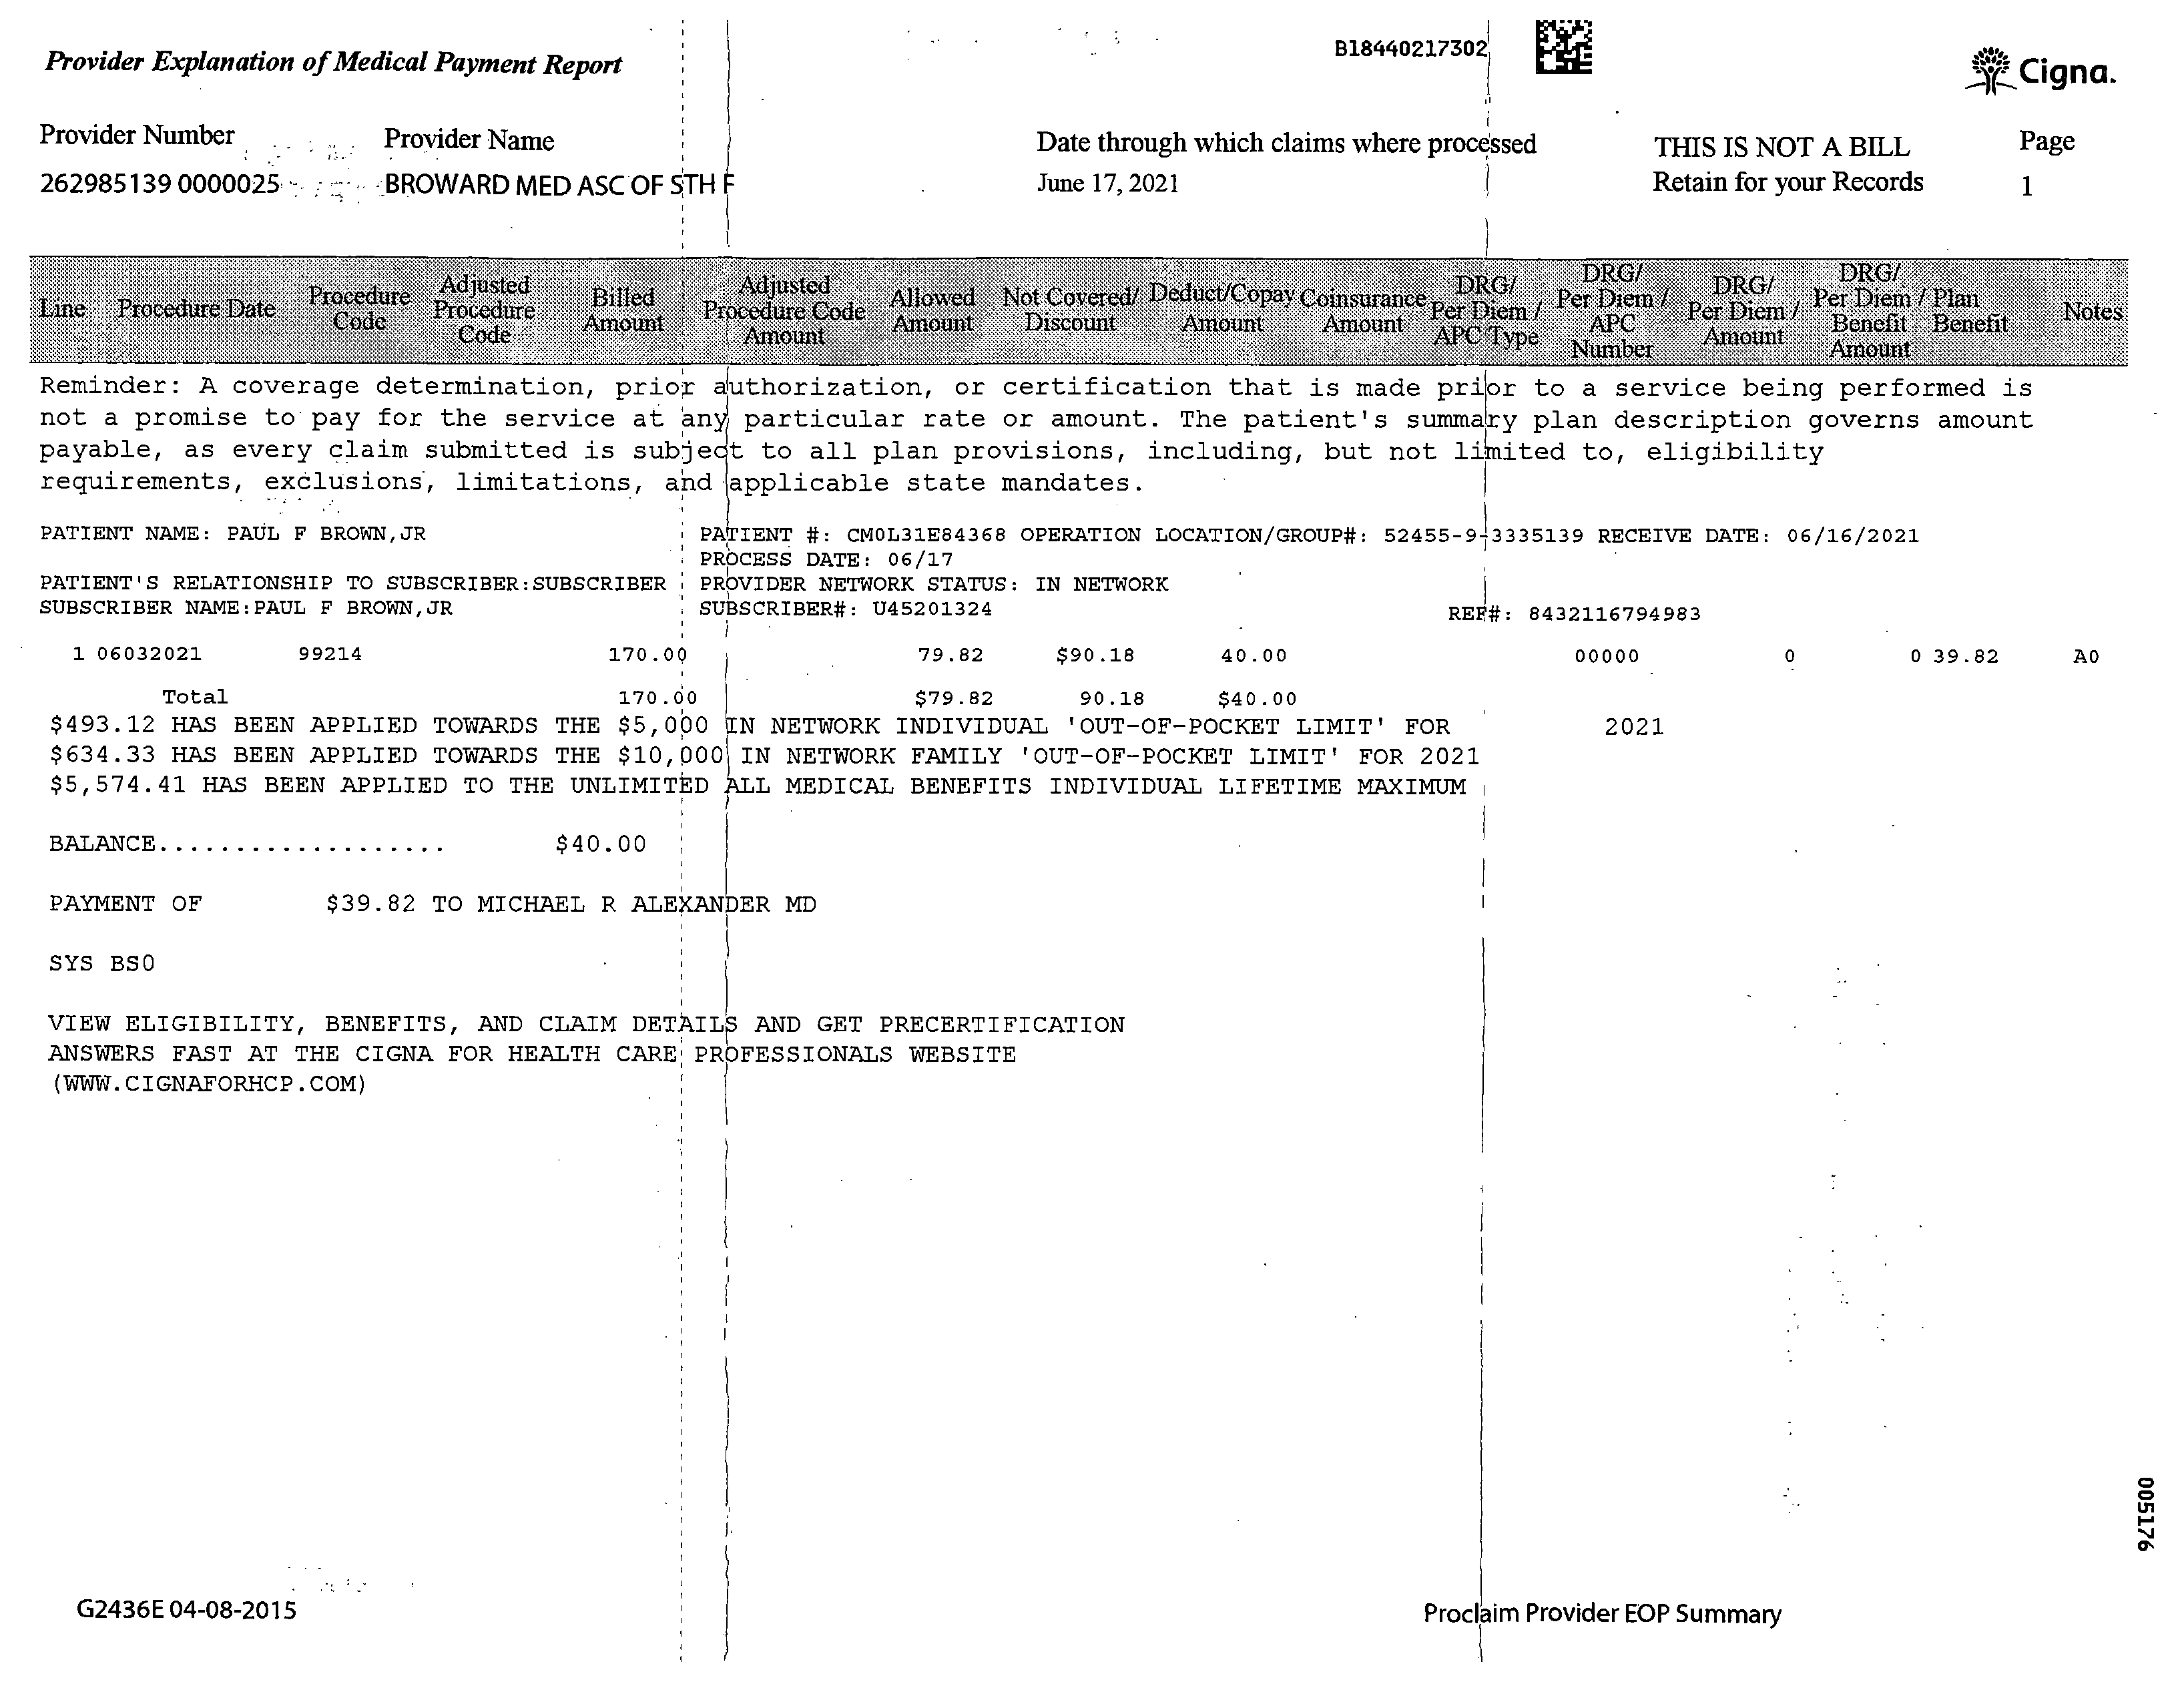data: (19, 102, 737, 224)
